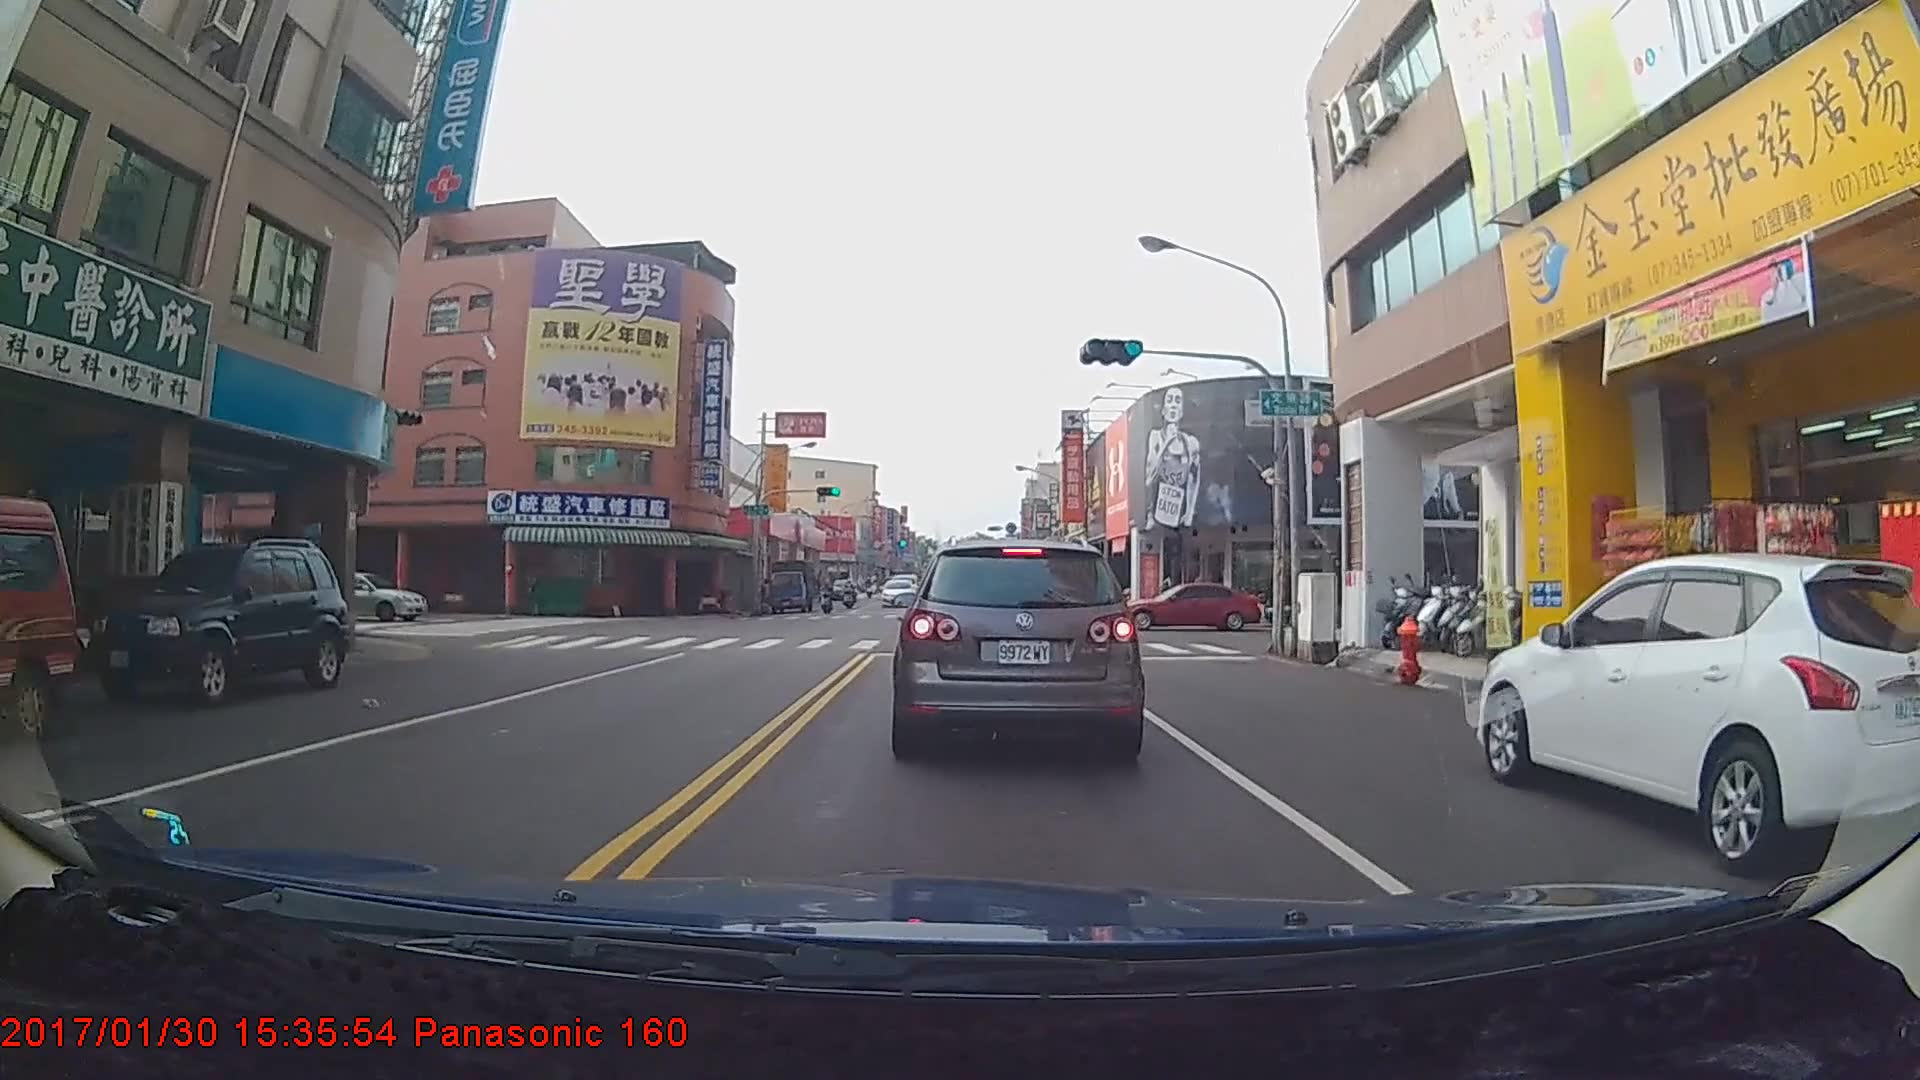rider: (813, 584, 838, 623), (841, 585, 862, 617)
vehicle: (1475, 552, 1919, 874), (893, 533, 1138, 759), (88, 537, 351, 705), (0, 494, 83, 751), (1112, 577, 1258, 629), (291, 572, 429, 624), (765, 564, 818, 620), (879, 579, 916, 609)
